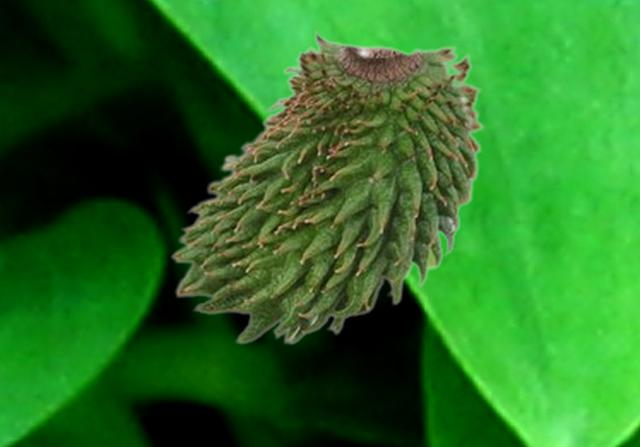guyabano: (169, 29, 484, 344)
